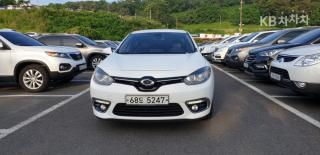2: (152, 96, 156, 104)
4: (156, 96, 161, 104)
5: (146, 96, 152, 104)
6: (130, 96, 135, 104)
7: (160, 96, 165, 104)
8: (134, 96, 138, 103)
plate: (123, 93, 171, 109)
도: (139, 96, 144, 104)
